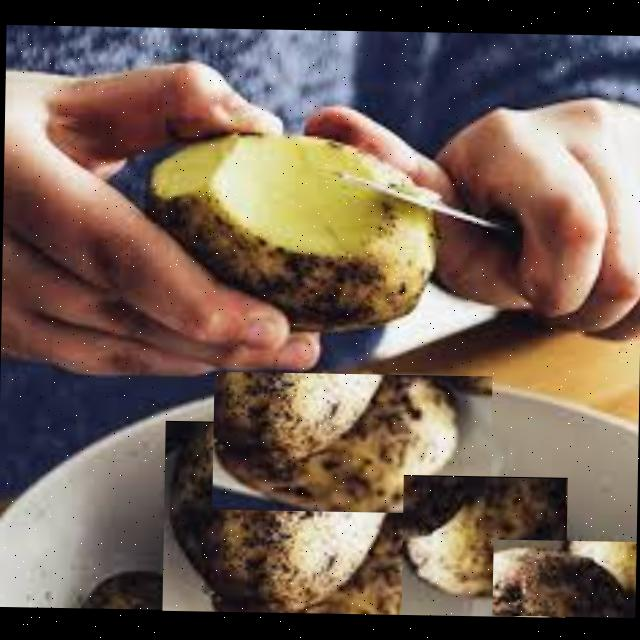Damaged potato: (138, 128, 437, 338), (491, 538, 636, 617)
Diseased-fungal potato: (161, 420, 408, 614), (211, 370, 491, 513), (400, 474, 566, 616)
